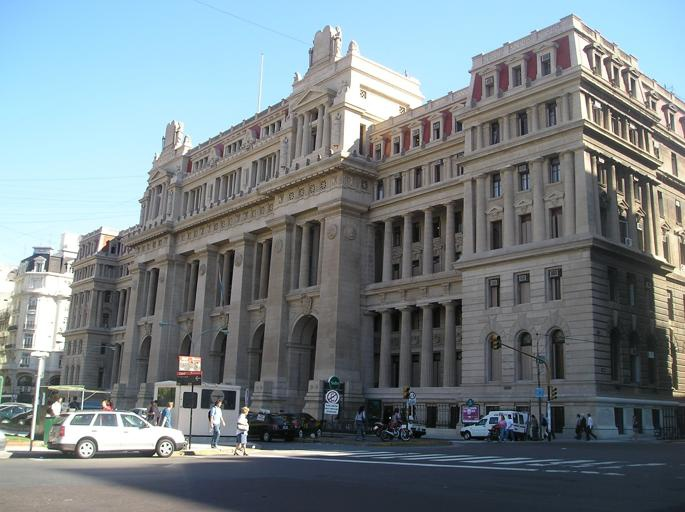non-vehicle: (381, 423, 410, 441), (370, 414, 386, 437)
